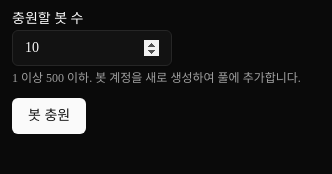
it: ProvisionPoolForm › 0 입력 시 검증 차단 — provisionPool 미호출 + 에러 노출
Replace the text in the number field labelled "충원할 봇 수" with "0": (92,48) [12,30,172,66]
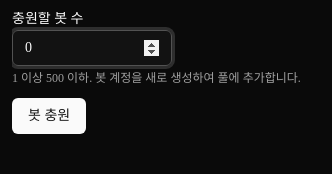
Click the button "봇 충원": (49,116) [12,98,86,134]
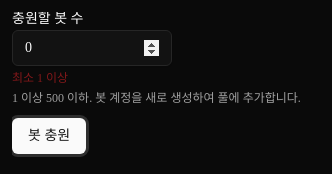
Result: the text "최소 1 이상" is shown at [12,71,68,85]
